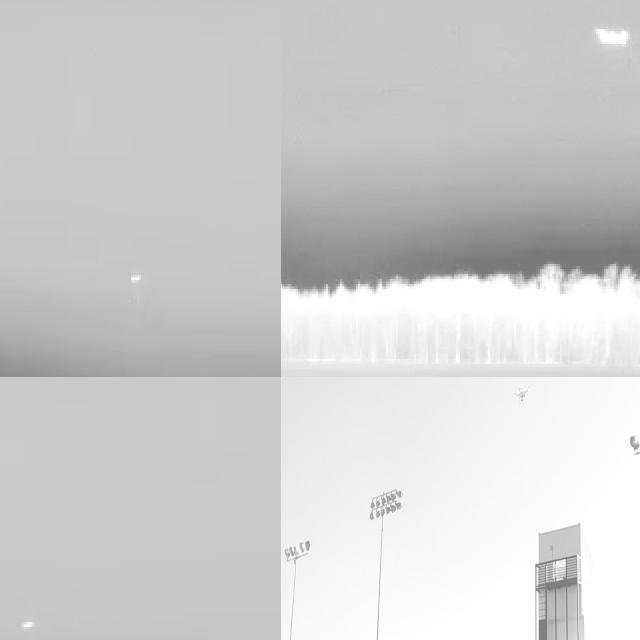1: (584, 21, 640, 56), (116, 263, 156, 305), (6, 607, 50, 640)
drone: (515, 381, 531, 406)
